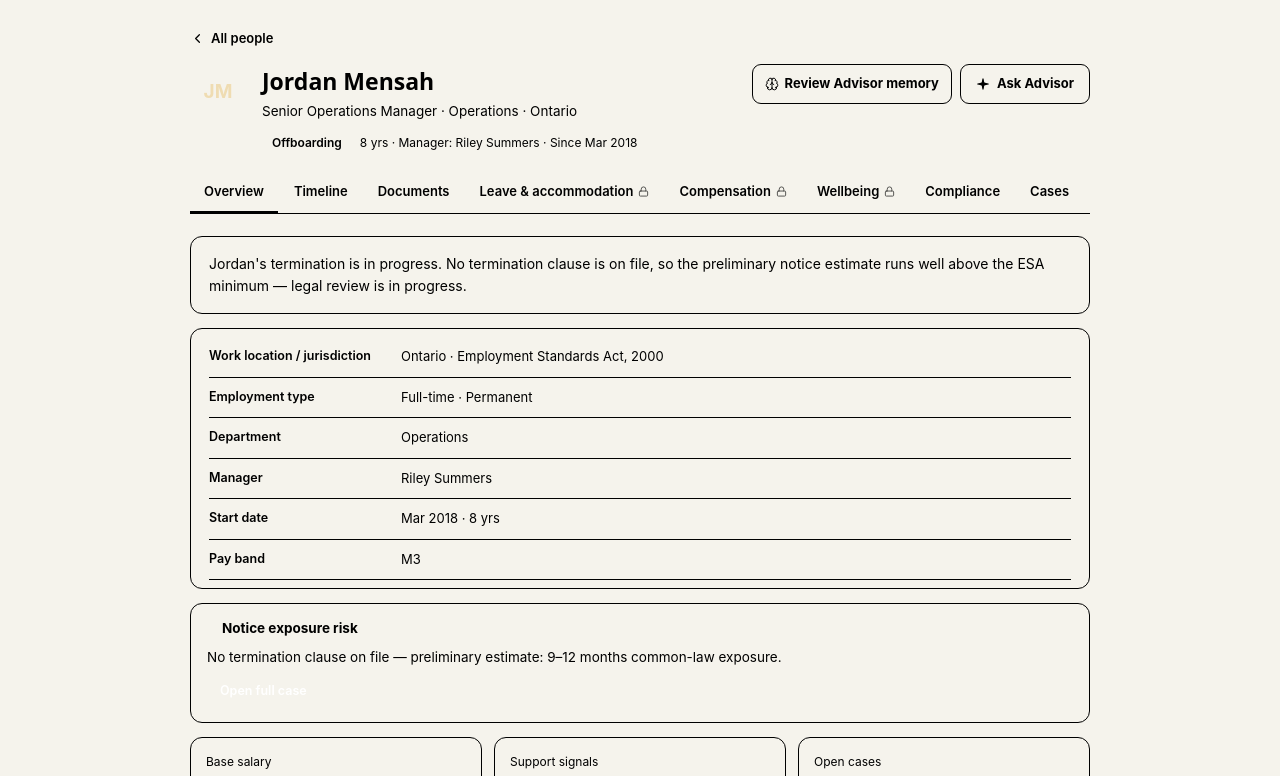
it: EmployeeProfileView › shows linked cases with the restricted badge
The width and height of the screenshot is (1280, 776).
Click the tab "Cases".
click(1050, 193)  # box [1016,173,1083,212]
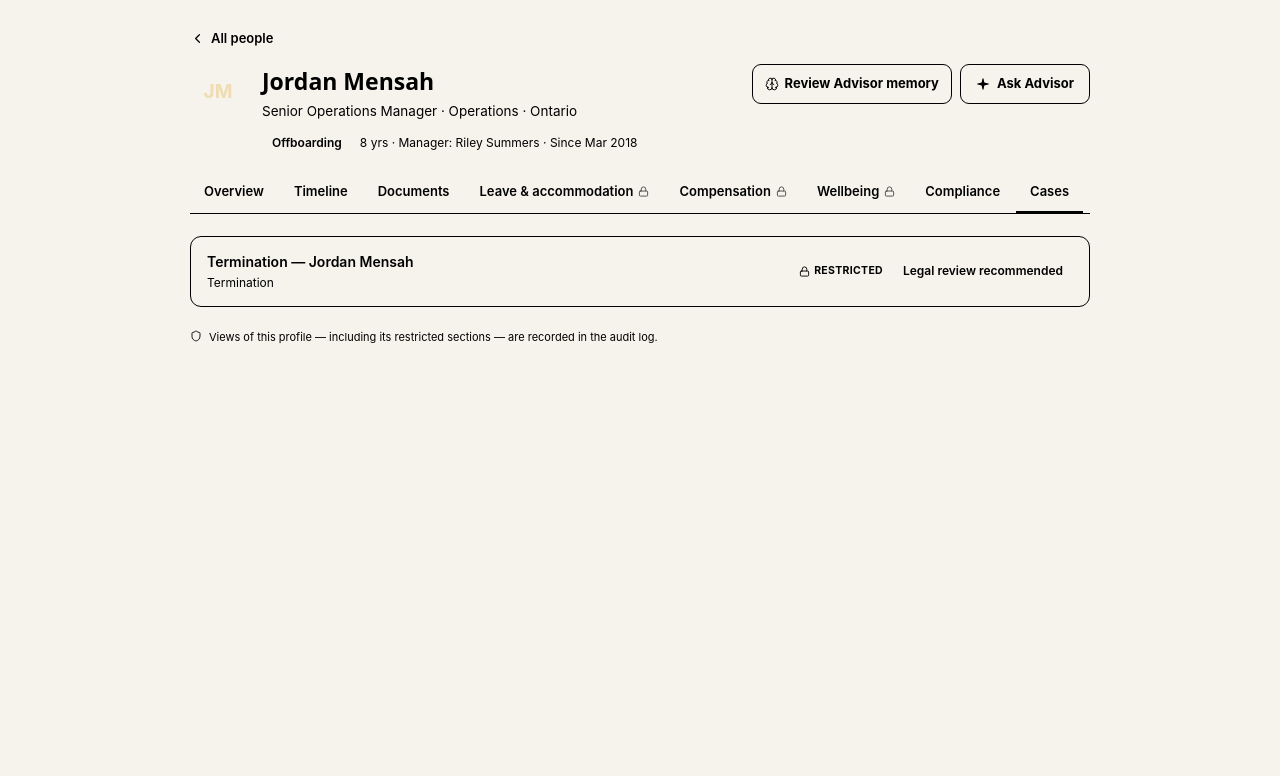
Check: the text "Termination — Jordan Mensah" is shown, box [207,250,414,272]
Check: the text "Restricted" is shown, box [799,263,883,279]
Check: the text "Legal review recommended" is shown, box [893,259,1073,283]
